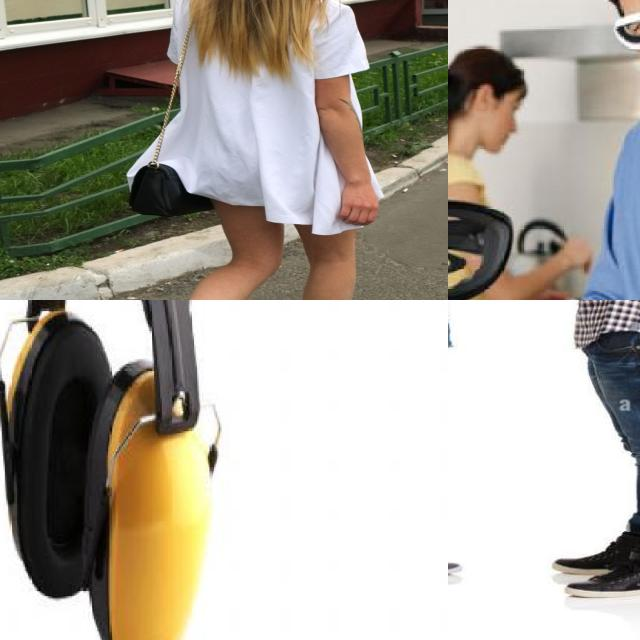Ear-protection: (0, 300, 221, 640)
face_nomask: (492, 89, 528, 155)
hand_noglove: (549, 230, 595, 280)
head_nohelmet: (448, 33, 527, 88)
person: (541, 300, 640, 598), (558, 0, 640, 300), (448, 44, 544, 300)
